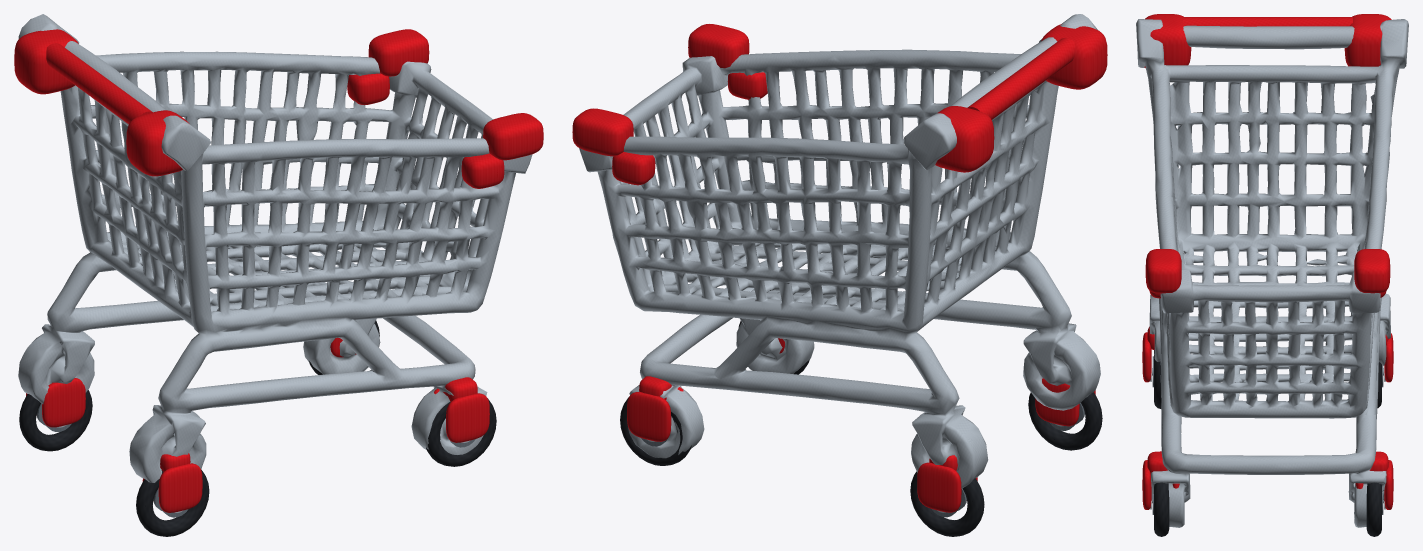
The model's file is starter.glb.
The picture shows the model from 3 angles, left to right: view 1: azimuth 30°, elevation 25°; view 2: azimuth 150°, elevation 25°; view 3: azimuth 270°, elevation 25°; orthographic projection. The views are drawn at different scales.
Visible parts, largest first — view 1: Original trolley geometry with repaired shading and material; view 2: Original trolley geometry with repaired shading and material; view 3: Original trolley geometry with repaired shading and material.
Part boxes in pixels (left/top/right/bottom): Original trolley geometry with repaired shading and material: left=14, top=14, right=543, bottom=536; Original trolley geometry with repaired shading and material: left=572, top=14, right=1107, bottom=536; Original trolley geometry with repaired shading and material: left=1136, top=14, right=1408, bottom=536.
Size of the model in its own units: 2 by 2 by 1.28.
4 materials, 4 textured.
